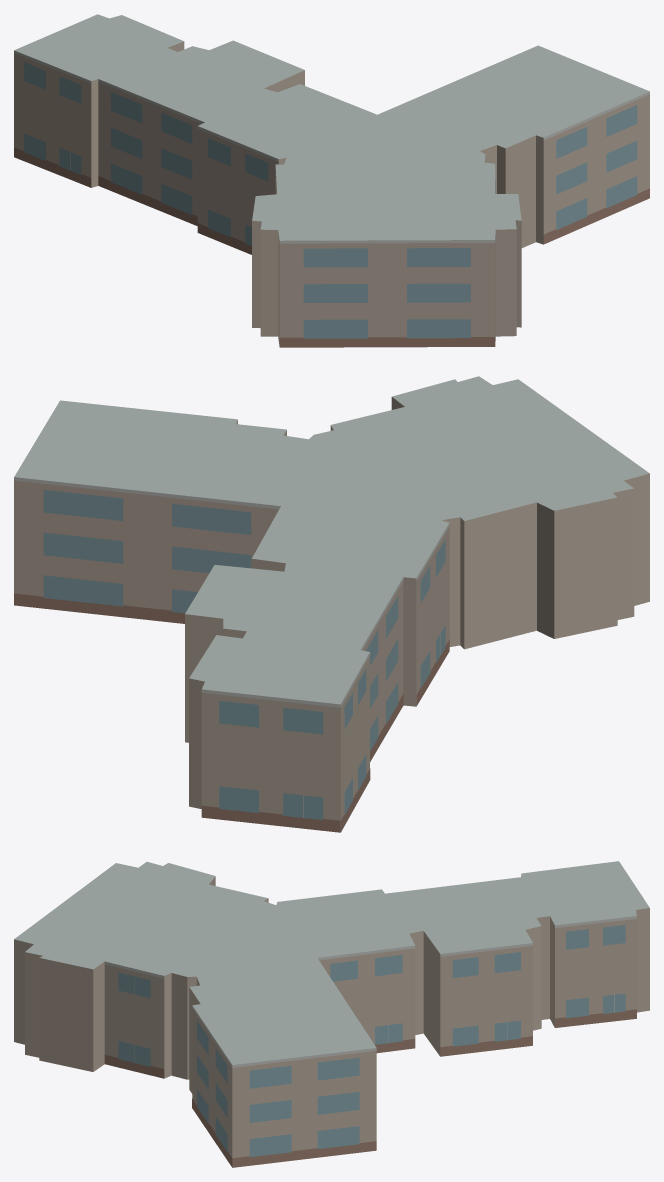
The model's file is survey-upis-32539634.glb.
3 views of the same model, one above another, from view 1: azimuth 30°, elevation 25°; view 2: azimuth 150°, elevation 25°; view 3: azimuth 270°, elevation 25° (orthographic). The views are drawn at different scales.
Visible parts, largest first — view 1: survey-upis-32539634.tmp; view 2: survey-upis-32539634.tmp; view 3: survey-upis-32539634.tmp.
Part boxes in pixels (box(x1,y1,x2,y2)): survey-upis-32539634.tmp: box(14, 14, 649, 347); survey-upis-32539634.tmp: box(14, 376, 649, 832); survey-upis-32539634.tmp: box(14, 861, 649, 1167).
Size of the model in its own units: 38.97 by 9.15 by 51.33.
